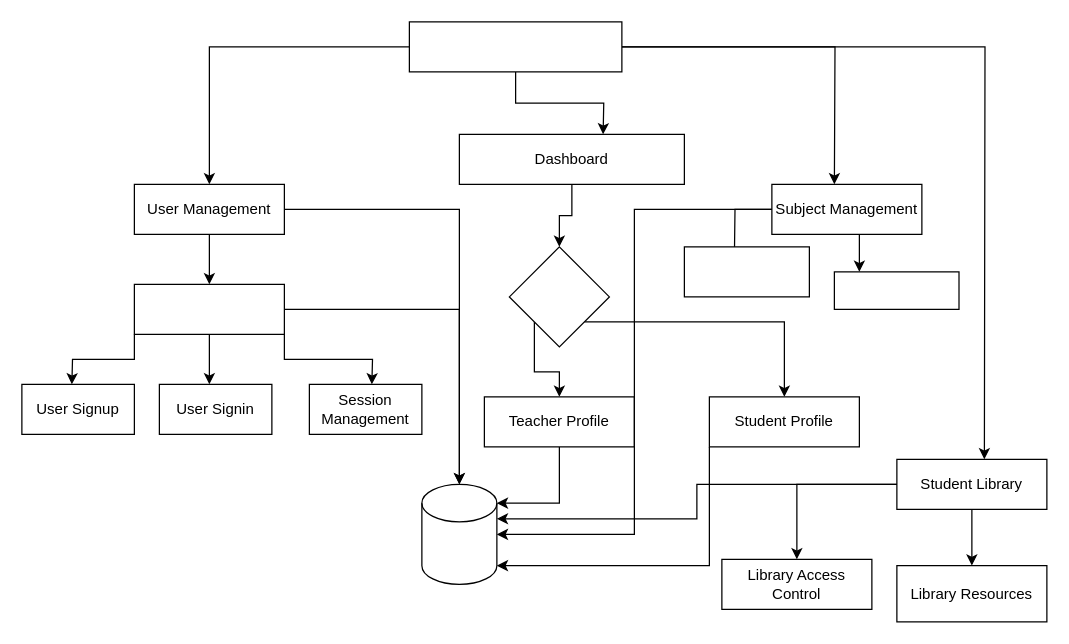
The diagram is 1069 pixels wide and 644 high, and some of its shapes have lost their labels. Each missing label, with the centre of its shape:
"API LAYER" belongs at pixel 515 46.
"Authentiation System" belongs at pixel 208 308.
"Database" belongs at pixel 459 533.
"Subject CRUD Operations" belongs at pixel 746 271.
"Subject Search" belongs at pixel 896 290.
"User Type" belongs at pixel 558 296.
